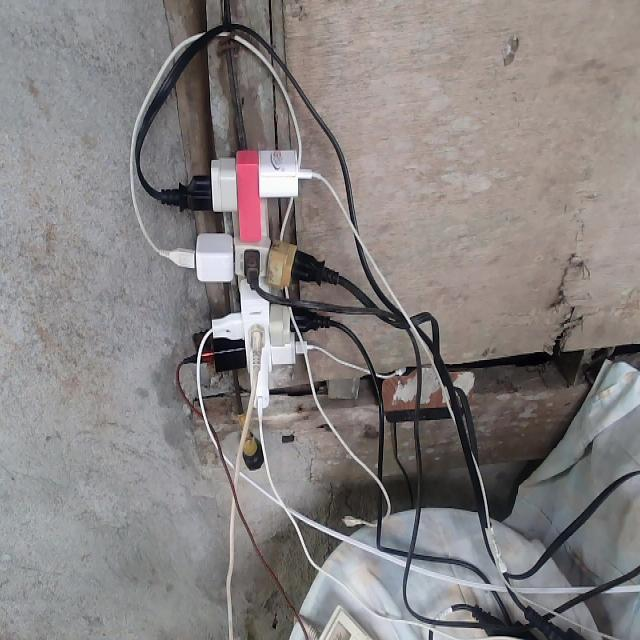-: (157, 147, 337, 412)
